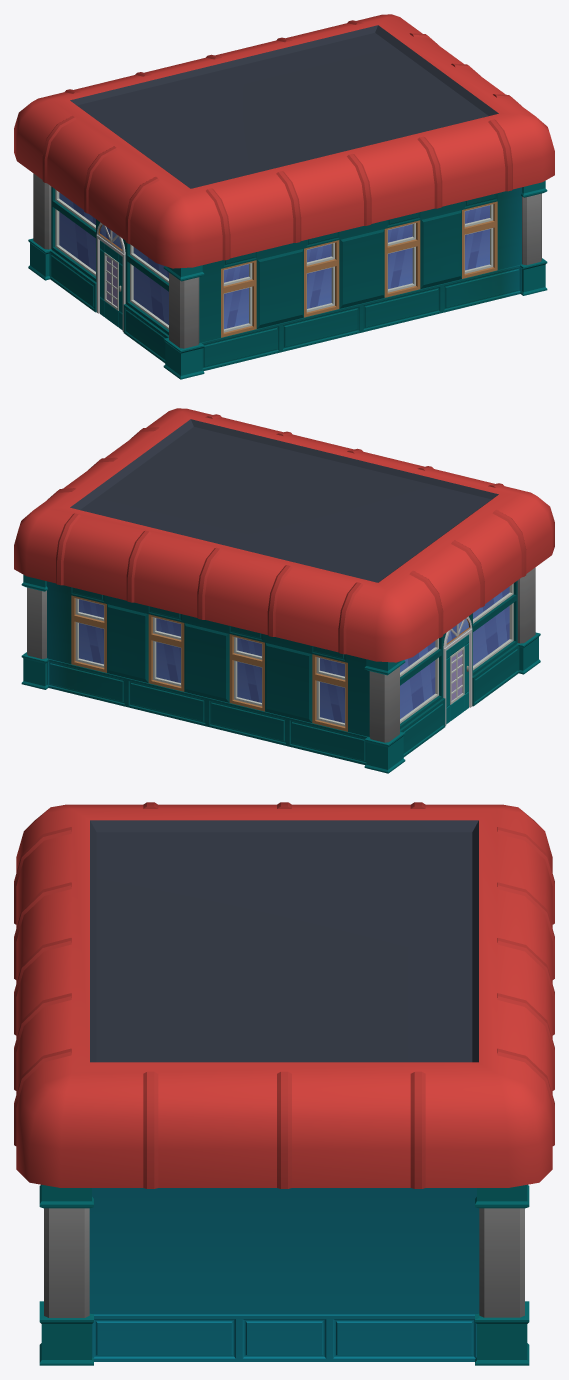
Rendered from Building_12_C.fbx.
3 renders of one model, top to bottom at view 1: azimuth 30°, elevation 25°; view 2: azimuth 150°, elevation 25°; view 3: azimuth 270°, elevation 25°, orthographic. The views are drawn at different scales.
Parts seen in each view (by area): view 1: Building_12_C; view 2: Building_12_C; view 3: Building_12_C.
Boxes of the visible parts, <box> form: Building_12_C: <box>14,14,554,379</box>; Building_12_C: <box>14,408,554,773</box>; Building_12_C: <box>14,802,554,1365</box>.
Size of the model in its own units: 1053 by 440 by 770.
